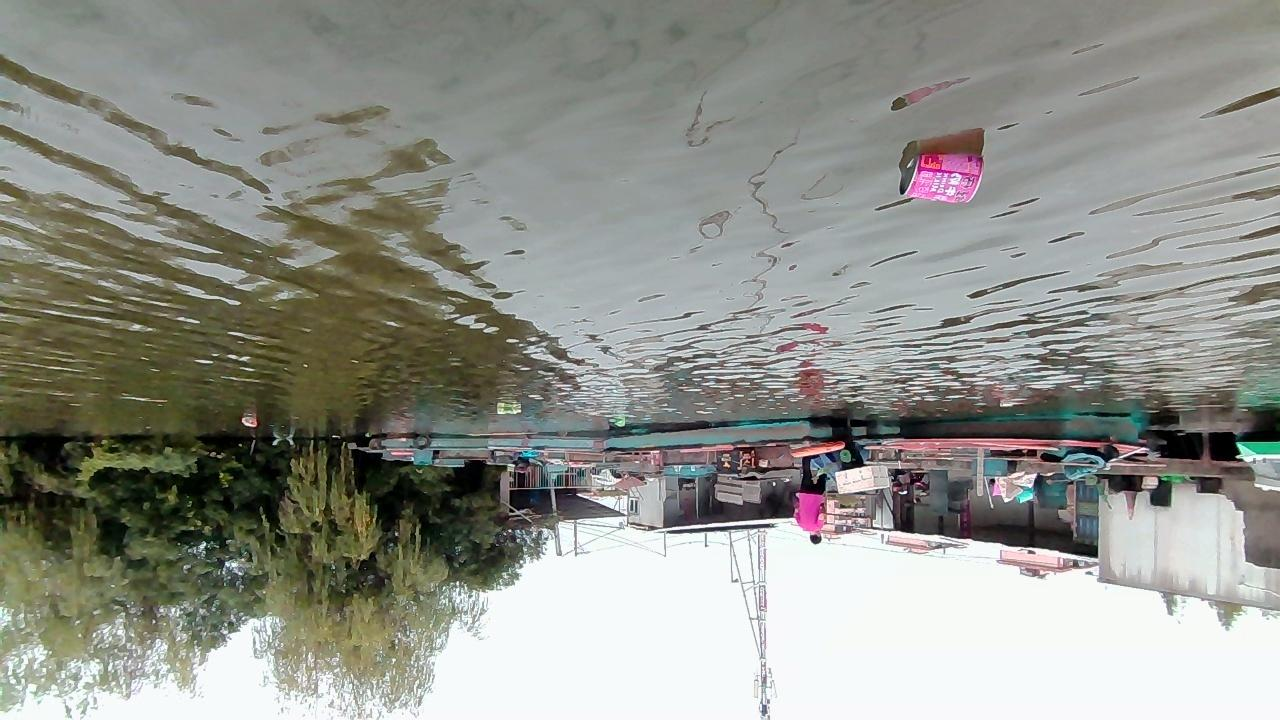Metal: (897, 150, 987, 206)
